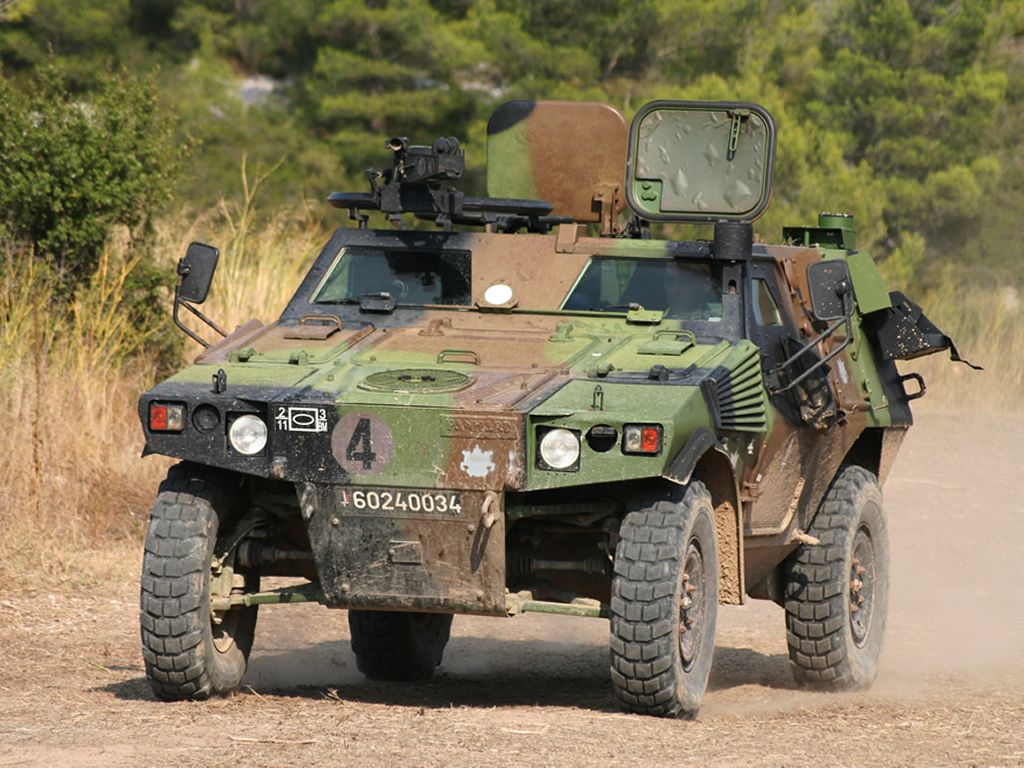license_plate: (349, 488, 466, 519)
